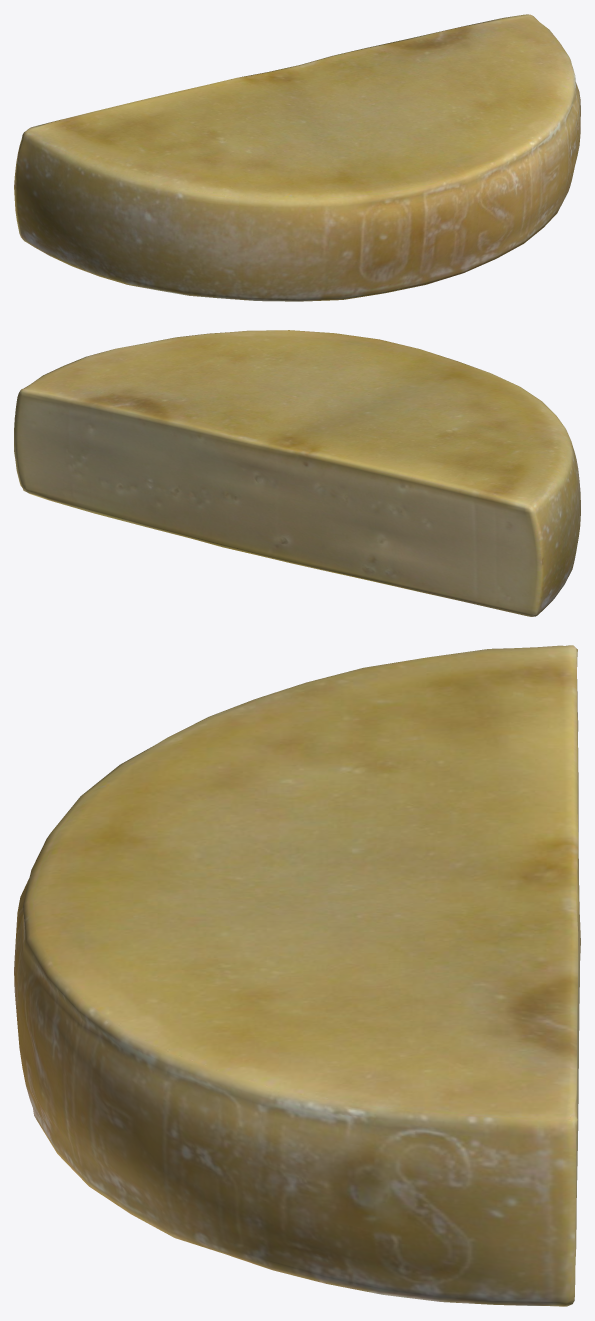
File: queso.glb
3 renders of one model, top to bottom at view 1: azimuth 30°, elevation 25°; view 2: azimuth 150°, elevation 25°; view 3: azimuth 270°, elevation 25°, orthographic. The views are drawn at different scales.
Visible parts, largest first — view 1: Half Cheese Wheel_Cheese Wheel LP_0; view 2: Half Cheese Wheel_Cheese Wheel LP_0; view 3: Half Cheese Wheel_Cheese Wheel LP_0.
Boxes of the visible parts, box(x1,y1,x2,y2) form: Half Cheese Wheel_Cheese Wheel LP_0: box(14, 14, 580, 301); Half Cheese Wheel_Cheese Wheel LP_0: box(14, 330, 580, 616); Half Cheese Wheel_Cheese Wheel LP_0: box(14, 645, 580, 1306).
Bounding box in the file's own units: 24.95 × 5.38 × 12.47.
1 material, 1 textured.
